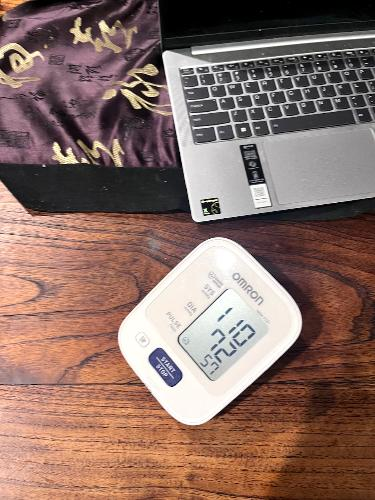bpm: (171, 284, 274, 386)
